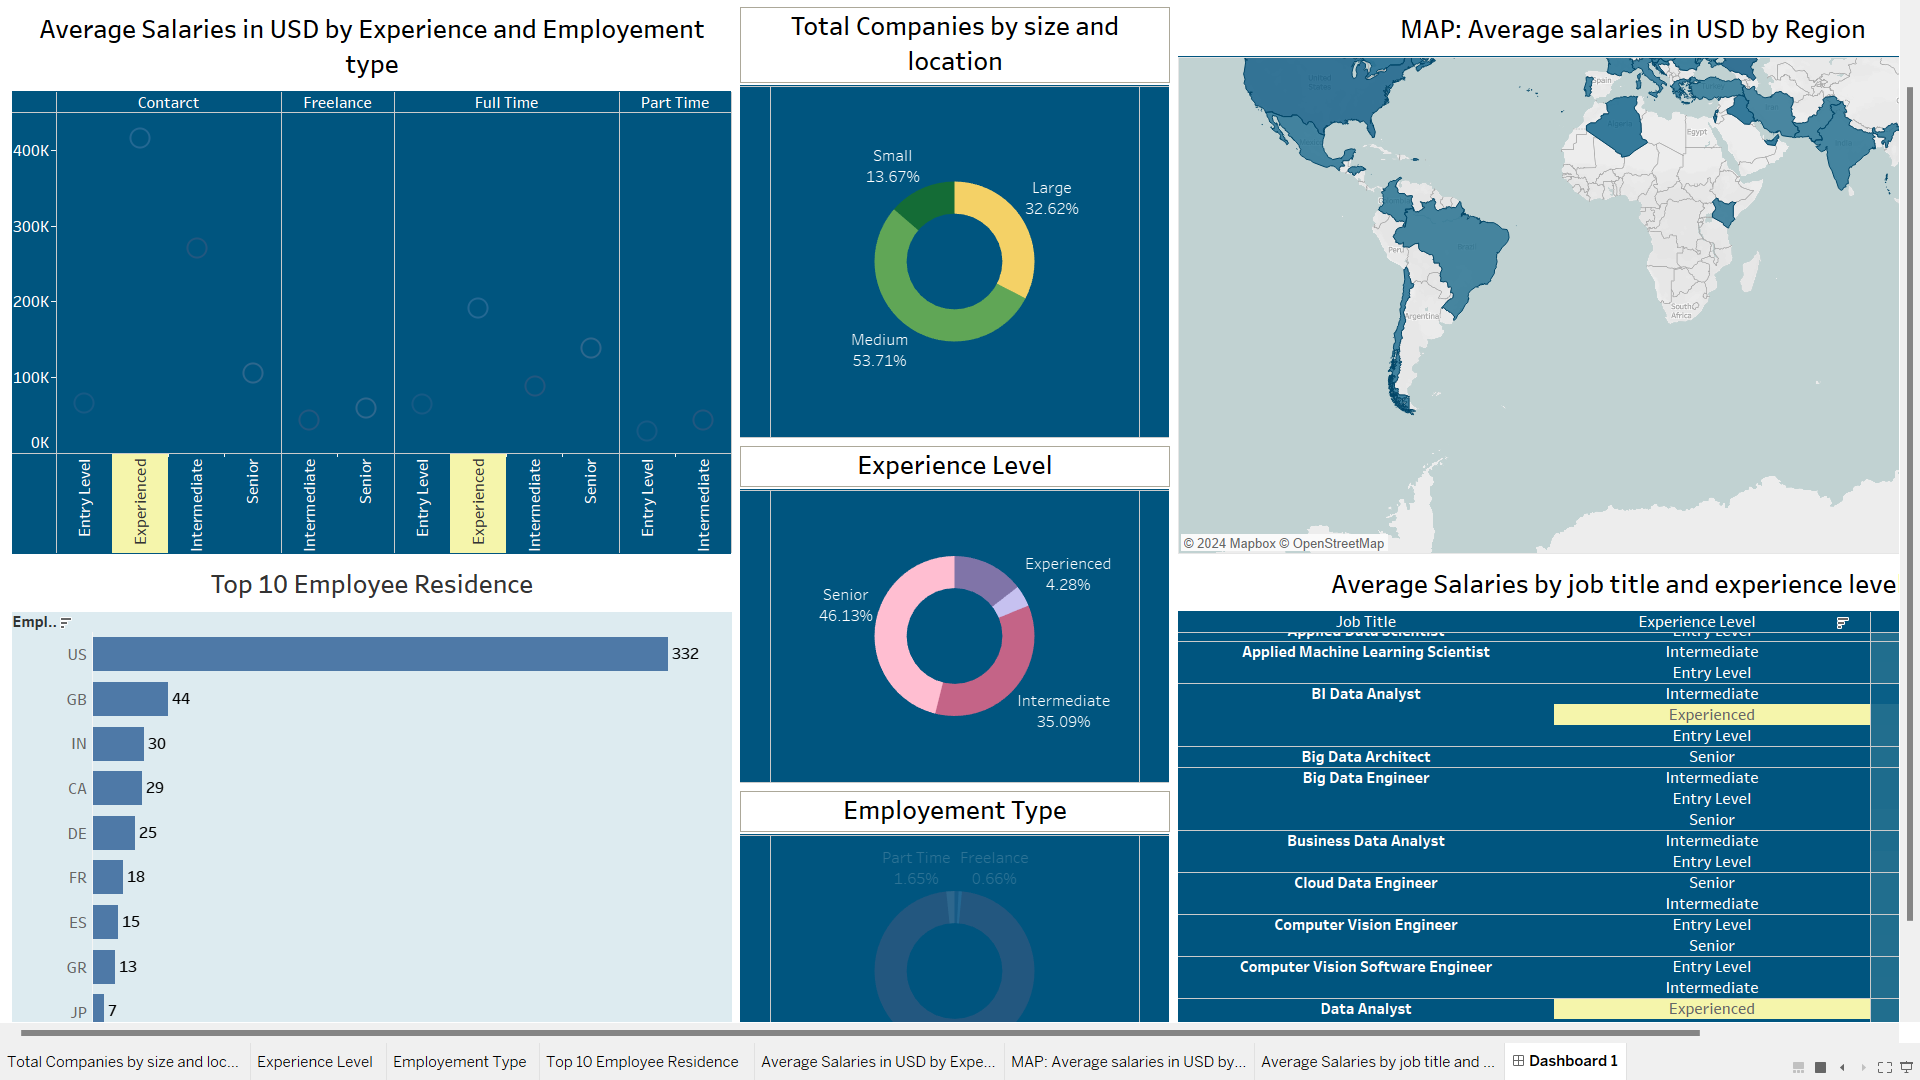

This screenshot's page, from the dashboard's own definition file:
{"tool":"tableau","page":{"name":"Dashboard 1","canvas":[2100,1200],"ordinal":0},"visuals":[{"type":"filter","title":"Experience Level","param":"[federated.0sx03zt1b8pfyh142m14f022c4wq].[none:company_location:nk]","box":[8,8,2084,61]},{"type":"worksheet","title":"Average Salaries in USD by Experience and Employement type","mark":"Shape","rows":["salary_in_usd"],"cols":["employment_type","experience_level"],"box":[8,83,728,554.5]},{"type":"worksheet","title":"Total Companies by size and location","mark":"Pie","rows":["Calculation_1215127490835664897","Calculation_1215127490835783685"],"box":[736,83,438,439]},{"type":"worksheet","title":"MAP: Average salaries in USD by Region","mark":"Automatic","box":[1174,83,918,554.5]},{"type":"worksheet","title":"Experience Level","mark":"Pie","rows":["Calculation_1215127490835664897","Calculation_1215127490835783685"],"box":[736,522,438,345]},{"type":"worksheet","title":"Top 10 Employee Residence","mark":"Automatic","rows":["employee_residence"],"cols":["employee_residence"],"box":[8,637.5,728,554.5]},{"type":"worksheet","title":"Average Salaries by job title and experience level","mark":"Square","rows":["job_title","experience_level"],"box":[1174,637.5,918,554.5]},{"type":"worksheet","title":"Employement Type","mark":"Pie","rows":["Calculation_1215127490835664897","Calculation_1215127490835783685"],"box":[736,867,438,325]}]}

Visuals, with their boxes on the page's 2100x1200 design canvas (x1, y1, x2, y2). These are canvas units, not pixel positions in the 1920x1080 screenshot, which may show the page scaled, cropped or inside an application window:
"Experience Level" filter: 8/8/2092/69
"Average Salaries in USD by Experience and Employement type" worksheet (Shape marks): 8/83/736/638
"Total Companies by size and location" worksheet (Pie marks): 736/83/1174/522
"MAP: Average salaries in USD by Region" worksheet: 1174/83/2092/638
"Experience Level" worksheet (Pie marks): 736/522/1174/867
"Top 10 Employee Residence" worksheet: 8/638/736/1192
"Average Salaries by job title and experience level" worksheet (Square marks): 1174/638/2092/1192
"Employement Type" worksheet (Pie marks): 736/867/1174/1192
